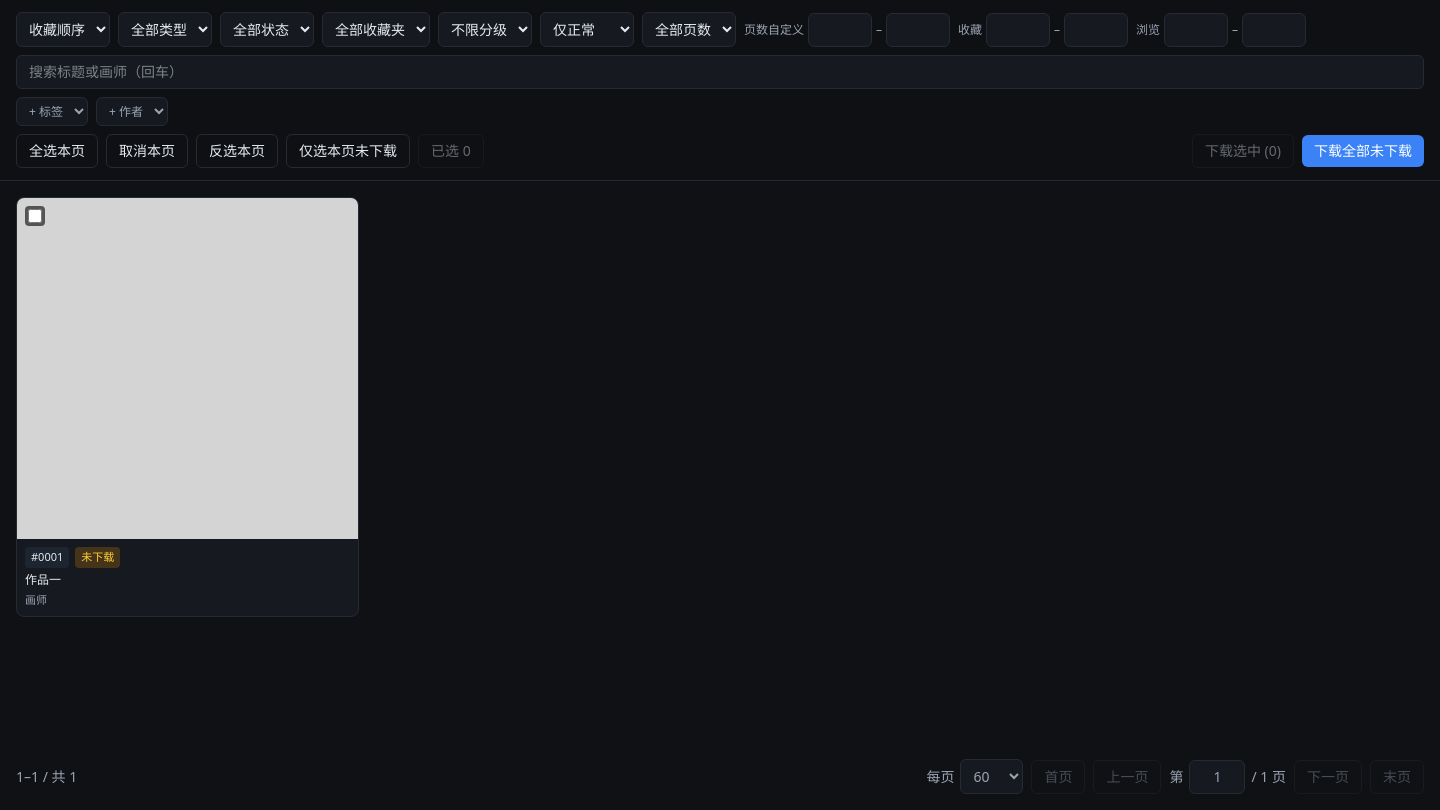
Test case: Gallery › selects the whole page
The image size is (1440, 810).
Expected: the text "作品一" is shown, [25,570,61,588]
Click the button "全选本页" at (57, 151), box [16,134,98,168]
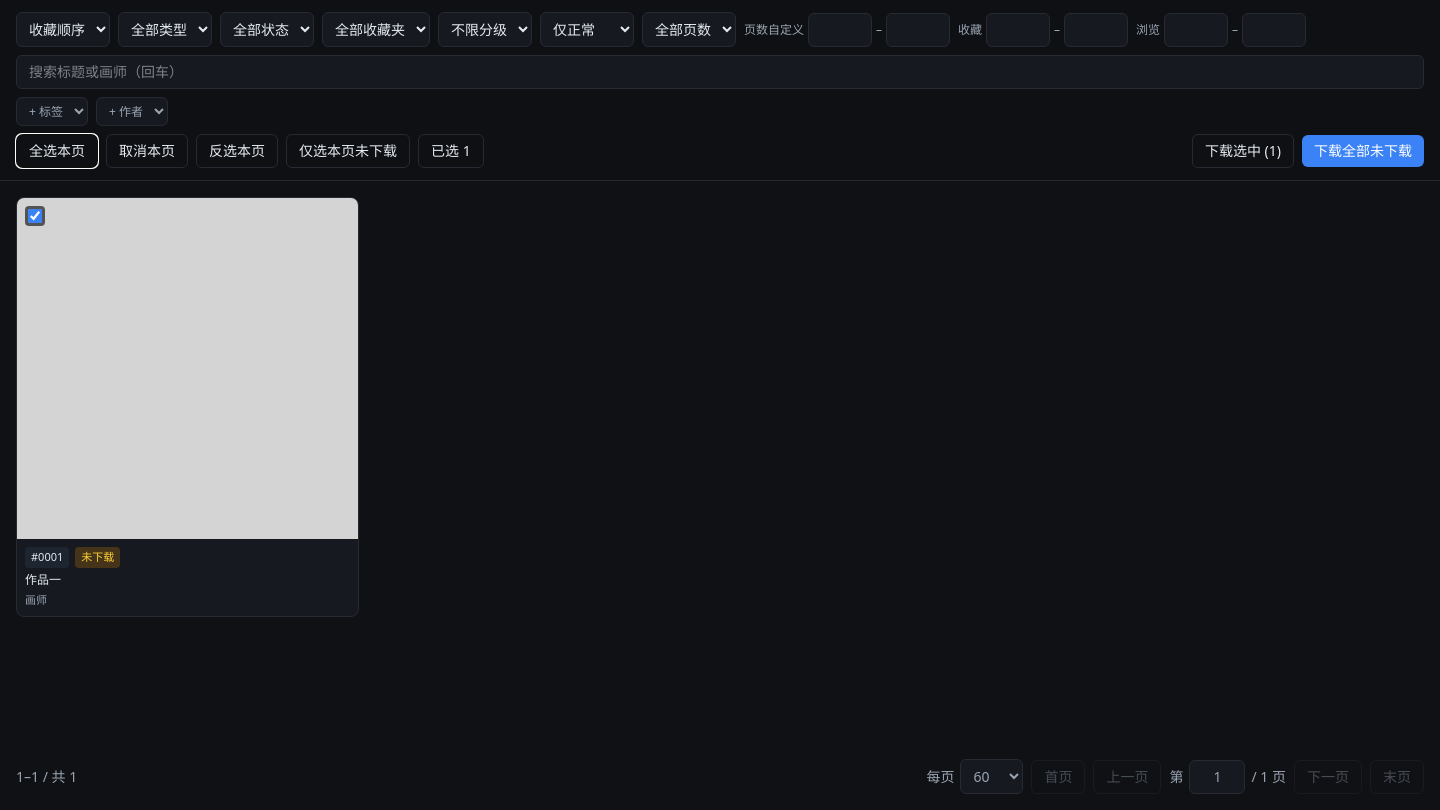
Now the button "下载选中 (1)" is shown, box [1192,134,1294,168]
